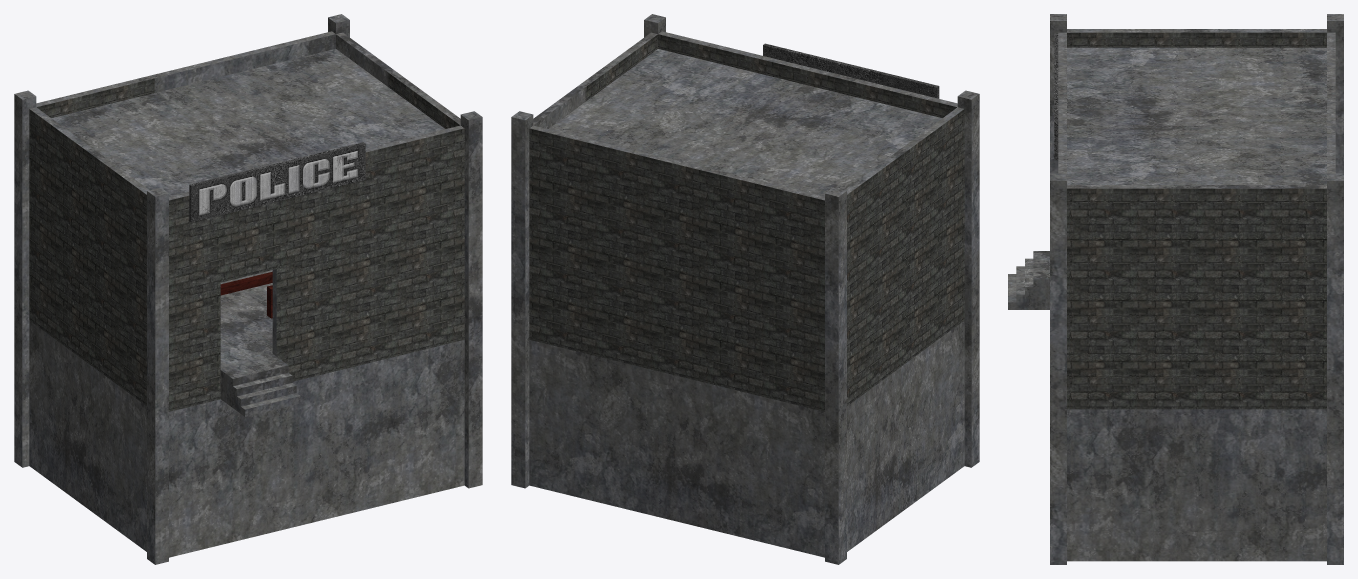
File: policestation.gltf
3 views of the same model, side by side, from view 1: azimuth 30°, elevation 25°; view 2: azimuth 150°, elevation 25°; view 3: azimuth 270°, elevation 25° (orthographic). The views are drawn at different scales.
Visible parts, largest first — view 1: policestation; view 2: policestation; view 3: policestation.
Part boxes in pixels (<box>): policestation: <box>14,14,482,564</box>; policestation: <box>511,14,979,564</box>; policestation: <box>1008,14,1343,564</box>.
Size of the model in its own units: 11.75 by 12.62 by 10.
8 materials, 8 textured.
